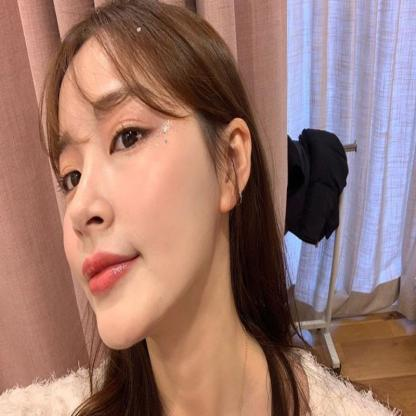person: (35, 6, 261, 354)
